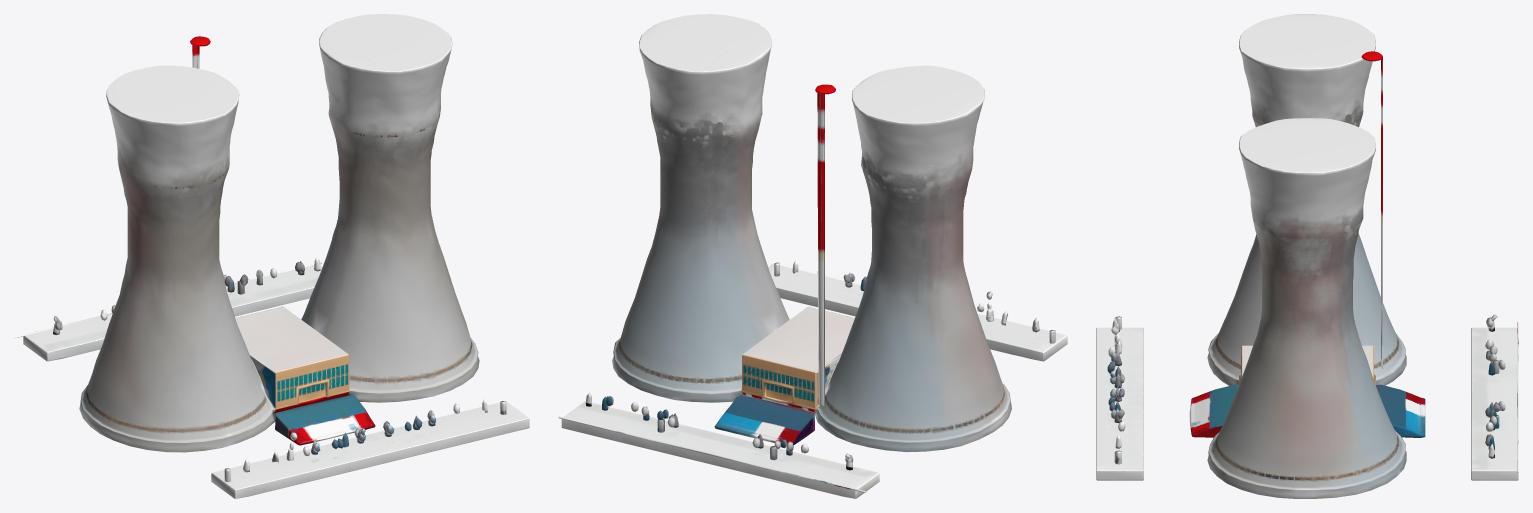
File: powerplant.glb
3 views of the same model, side by side, from view 1: azimuth 30°, elevation 25°; view 2: azimuth 150°, elevation 25°; view 3: azimuth 270°, elevation 25° (orthographic).
Size of the model in its own units: 1.89 by 1.67 by 1.87.
Materials: 1 (1 with a texture image).
